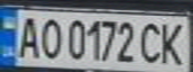0: (63, 16, 87, 61)
1: (81, 16, 103, 61)
2: (115, 17, 139, 64)
7: (100, 17, 118, 62)
A: (12, 12, 42, 60)
C: (136, 19, 166, 65)
K: (157, 18, 190, 68)
O: (36, 15, 63, 60)
